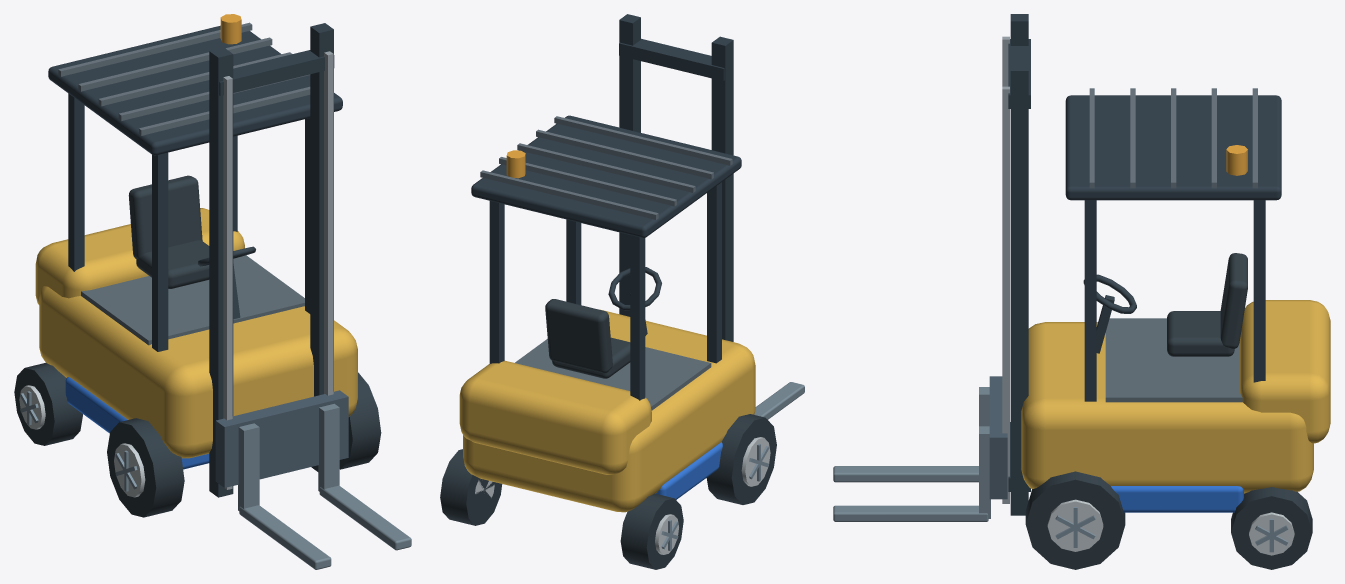
File: forklift-2-blue.glb
3 views of the same model, side by side, from view 1: azimuth 30°, elevation 25°; view 2: azimuth 150°, elevation 25°; view 3: azimuth 270°, elevation 25° (orthographic). The views are drawn at different scales.
Visible parts, largest first — view 1: static-8--25, static-8--23, static-2--6, forklift-2, static-2--5, fork-carriage, static-2--3, static-8--19, wheel-front-left, wheel-rear-left, wheel-front-right, seat (+1 smaller); view 2: static-8--25, static-8--23, forklift-2, static-2--6, static-8--19, wheel-front-left, wheel-rear-left, wheel-rear-right, seat, static-2--5, static-8--24; view 3: static-8--25, static-8--23, forklift-2, static-2--6, wheel-front-right, static-2--5, wheel-rear-right, static-2--3, static-8--19, seat, fork-carriage, static-8--24.
Boxes of the visible parts, x1,y1,x2,y2 form: static-8--25: (35, 208, 357, 458); static-8--23: (48, 25, 342, 351); static-2--6: (209, 23, 334, 497); forklift-2: (65, 14, 304, 469); static-2--5: (238, 403, 411, 569); fork-carriage: (215, 390, 348, 487); static-2--3: (223, 51, 333, 489); static-8--19: (58, 22, 310, 135); wheel-front-left: (107, 418, 184, 517); wheel-rear-left: (14, 362, 82, 445); wheel-front-right: (339, 372, 381, 469); seat: (136, 240, 209, 288); static-8--25: (459, 309, 755, 512); static-8--23: (471, 115, 741, 400); forklift-2: (506, 150, 722, 499); static-2--6: (619, 14, 733, 341); static-8--19: (480, 116, 732, 219); wheel-front-left: (706, 414, 776, 504); wheel-rear-left: (620, 493, 683, 569); wheel-rear-right: (440, 449, 502, 525); seat: (552, 337, 630, 378); static-2--5: (754, 382, 804, 419); static-8--24: (608, 267, 661, 335); static-8--25: (1021, 300, 1330, 493); static-8--23: (1065, 95, 1281, 401); forklift-2: (1105, 145, 1247, 512); static-2--6: (1008, 14, 1030, 515); wheel-front-right: (1025, 471, 1125, 569); static-2--5: (833, 387, 990, 521); wheel-rear-right: (1231, 487, 1312, 569); static-2--3: (1002, 36, 1009, 503); static-8--19: (1089, 88, 1257, 188); seat: (1167, 311, 1234, 356); fork-carriage: (989, 376, 1007, 499); static-8--24: (1083, 274, 1136, 353).
Bounding box in the file's own units: 1.84 × 3.45 × 3.29.
